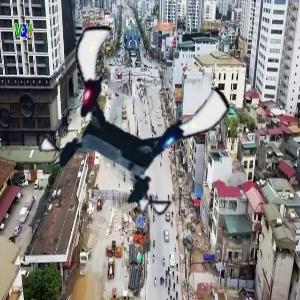drone: (43, 34, 214, 205)
